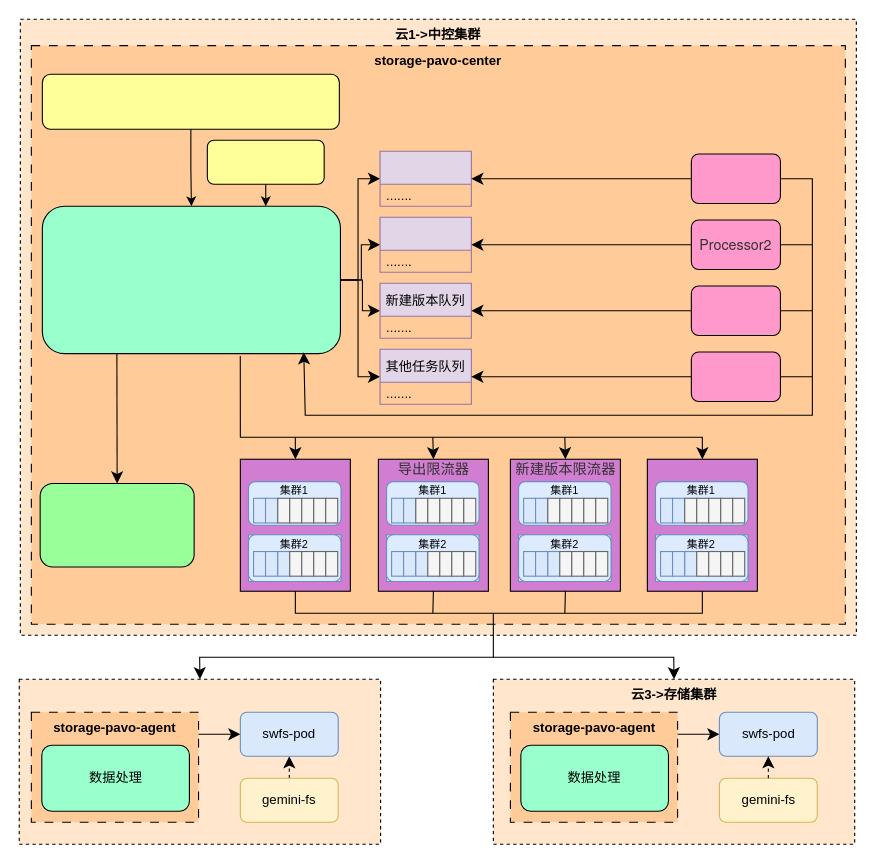
Image size: 876x864. Some labels were removed from this diagram. Here are the shapes that lost their labels. From the top down, the box of each, then its label:
(41, 73, 339, 129): 对外接口
(206, 139, 324, 184): 内部副本定时任务
(379, 150, 471, 206): 解压队列
(690, 153, 780, 204): Processor1
(379, 216, 471, 272): 导出队列
(41, 205, 340, 354): 数据管理器(manager)
(690, 285, 780, 336): Processor3
(690, 351, 780, 402): Processor4
(39, 482, 194, 567): 控制器( controller )
(239, 458, 350, 591): 解压限流器
(646, 458, 757, 591): 其他任务限流器
(18, 678, 381, 844): 云2->存储集群
